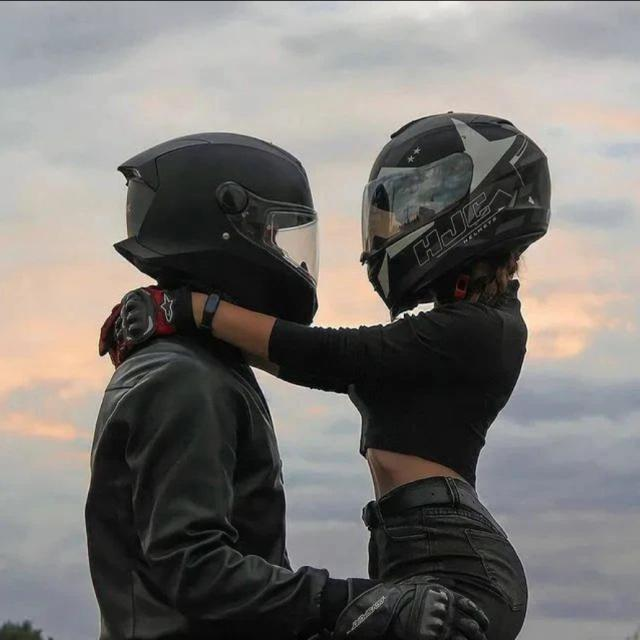helmet: (353, 107, 558, 327), (106, 125, 322, 328)
